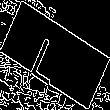L_NE: (34, 26, 76, 84)
